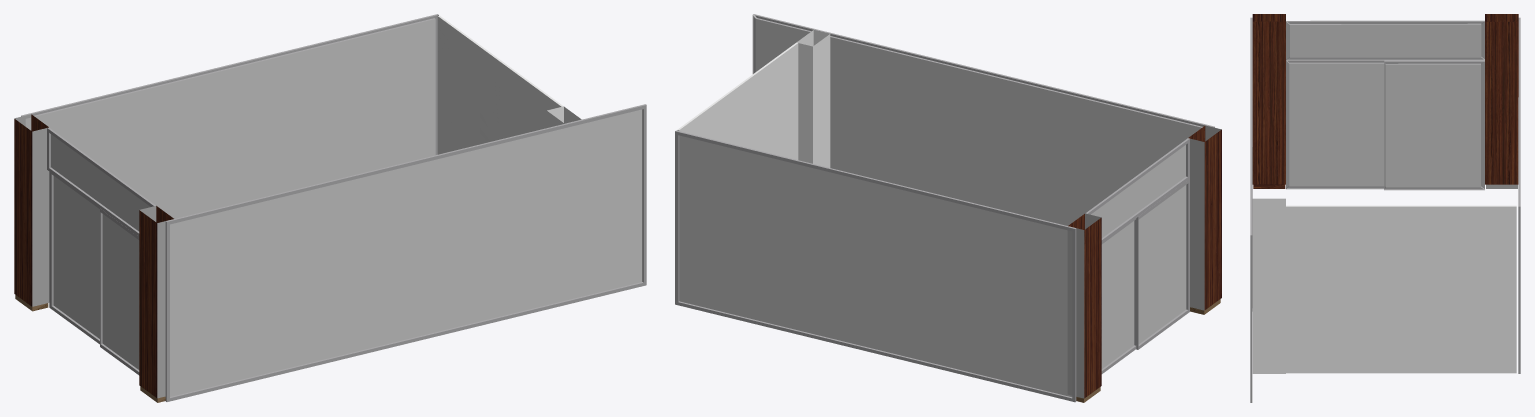
The model's file is taller.glb.
3 views of the same model, side by side, from view 1: azimuth 30°, elevation 25°; view 2: azimuth 150°, elevation 25°; view 3: azimuth 270°, elevation 25° (orthographic). The views are drawn at different scales.
Visible parts, largest first — view 1: pared frente.006, pared frente.012, pared derecha.002, pared frente.002, columna1.018, pared frente.003, columna1.016, pared frente.005; view 2: pared frente.012, pared frente.006, pared derecha.002, pared frente.003, columna1.016, columna1.018, pared frente.002, columna1.019, pared frente.005; view 3: pared derecha.002, pared frente.002, pared frente.003, pared frente.005, columna1.019, columna1.016, columna1.018, pared frente.006, pared frente.012.
Part boxes in pixels (<box>): pared frente.006: <box>165,104,646,401</box>; pared frente.012: <box>21,14,438,218</box>; pared derecha.002: <box>437,15,563,154</box>; pared frente.002: <box>49,171,99,344</box>; columna1.018: <box>14,114,49,311</box>; pared frente.003: <box>100,208,139,375</box>; columna1.016: <box>139,205,173,402</box>; pared frente.005: <box>47,127,155,236</box>; pared frente.012: <box>675,130,1076,402</box>; pared frente.006: <box>752,14,1214,225</box>; pared derecha.002: <box>677,42,798,159</box>; pared frente.003: <box>1136,179,1189,349</box>; columna1.016: <box>1188,125,1221,314</box>; columna1.018: <box>1067,213,1101,402</box>; pared frente.002: <box>1101,218,1136,373</box>; columna1.019: <box>796,30,830,167</box>; pared frente.005: <box>1085,138,1189,243</box>; pared derecha.002: <box>1286,205,1516,373</box>; pared frente.002: <box>1384,60,1484,190</box>; pared frente.003: <box>1286,59,1386,189</box>; pared frente.005: <box>1286,20,1484,60</box>; columna1.019: <box>1252,198,1285,373</box>; columna1.016: <box>1252,14,1285,188</box>; columna1.018: <box>1485,14,1518,188</box>; pared frente.006: <box>1250,17,1252,402</box>; pared frente.012: <box>1518,17,1520,373</box>.
Bounding box in the file's own units: 44.77 × 15.8 × 23.13.
6 materials, 2 textured.
